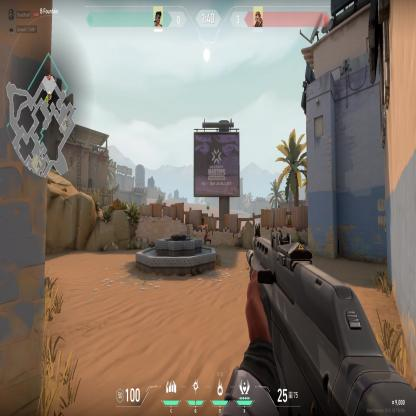enemy: (203, 221, 211, 247)
